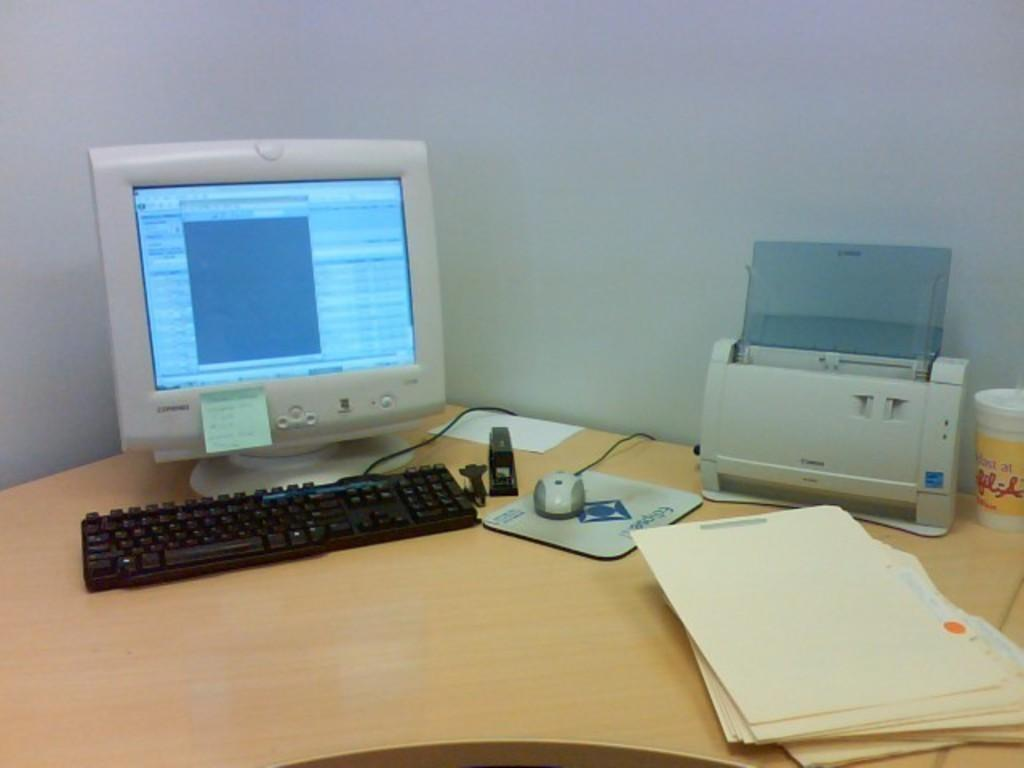AIO PC-Monitor-TV: (86, 138, 446, 454)
Printer: (699, 239, 970, 537)
